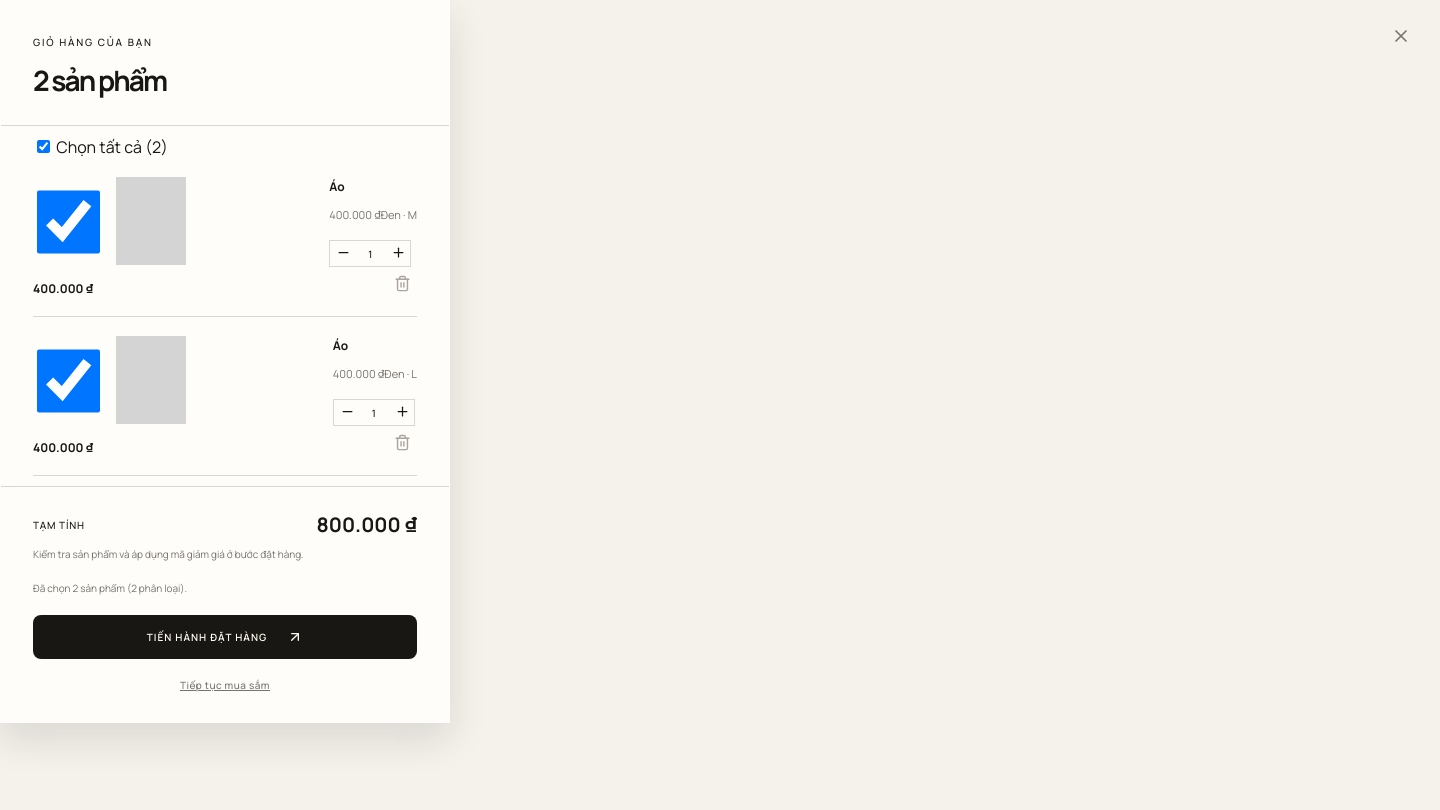
keeps checkout based on selected products, without shipping threshold side effects
The width and height of the screenshot is (1440, 810).
Click the checkbox named "Chọn Áo Đen M".
click(68, 222)  # box [37, 180, 100, 264]
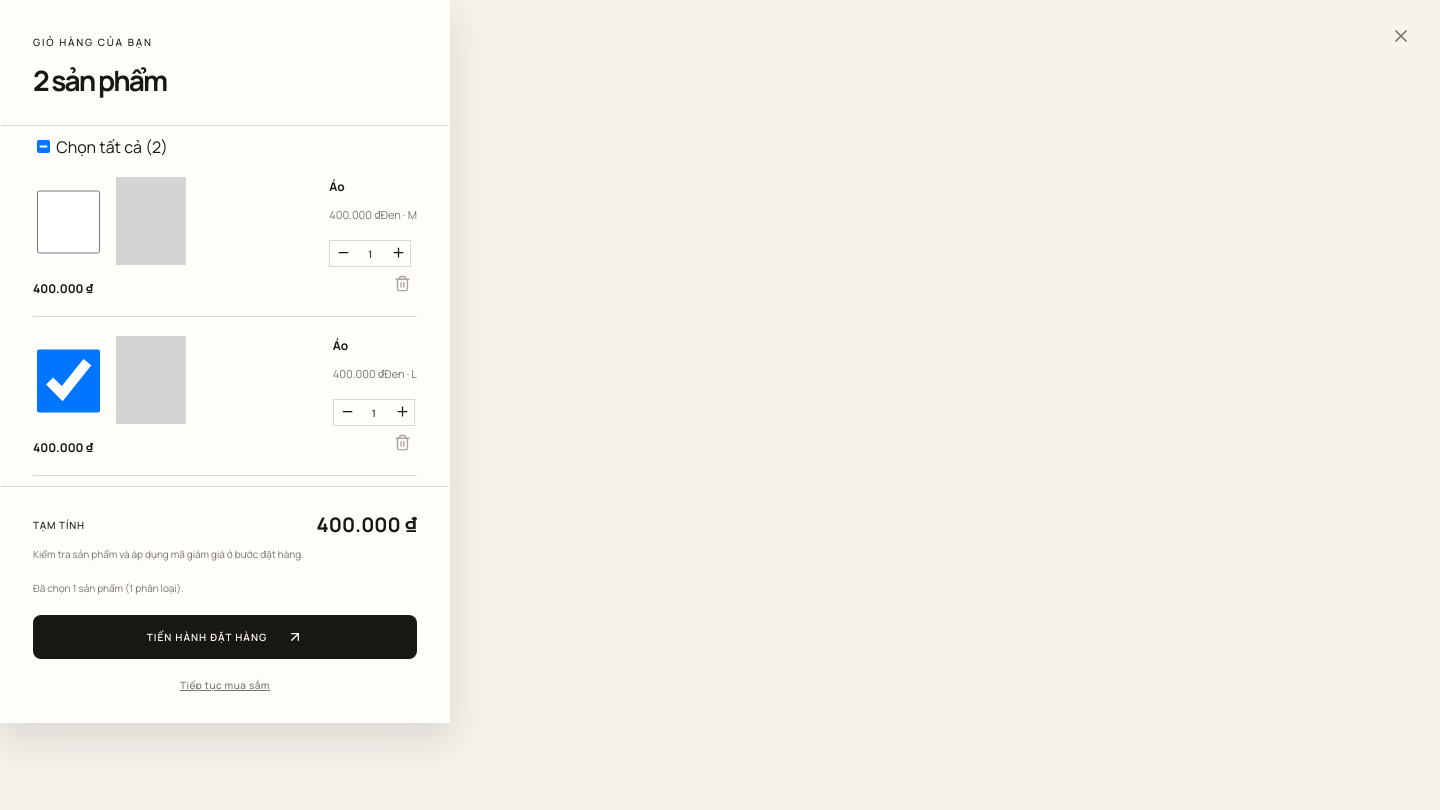
Click the checkbox named "Chọn Áo Đen L".
click(68, 381)  # box [37, 339, 100, 423]
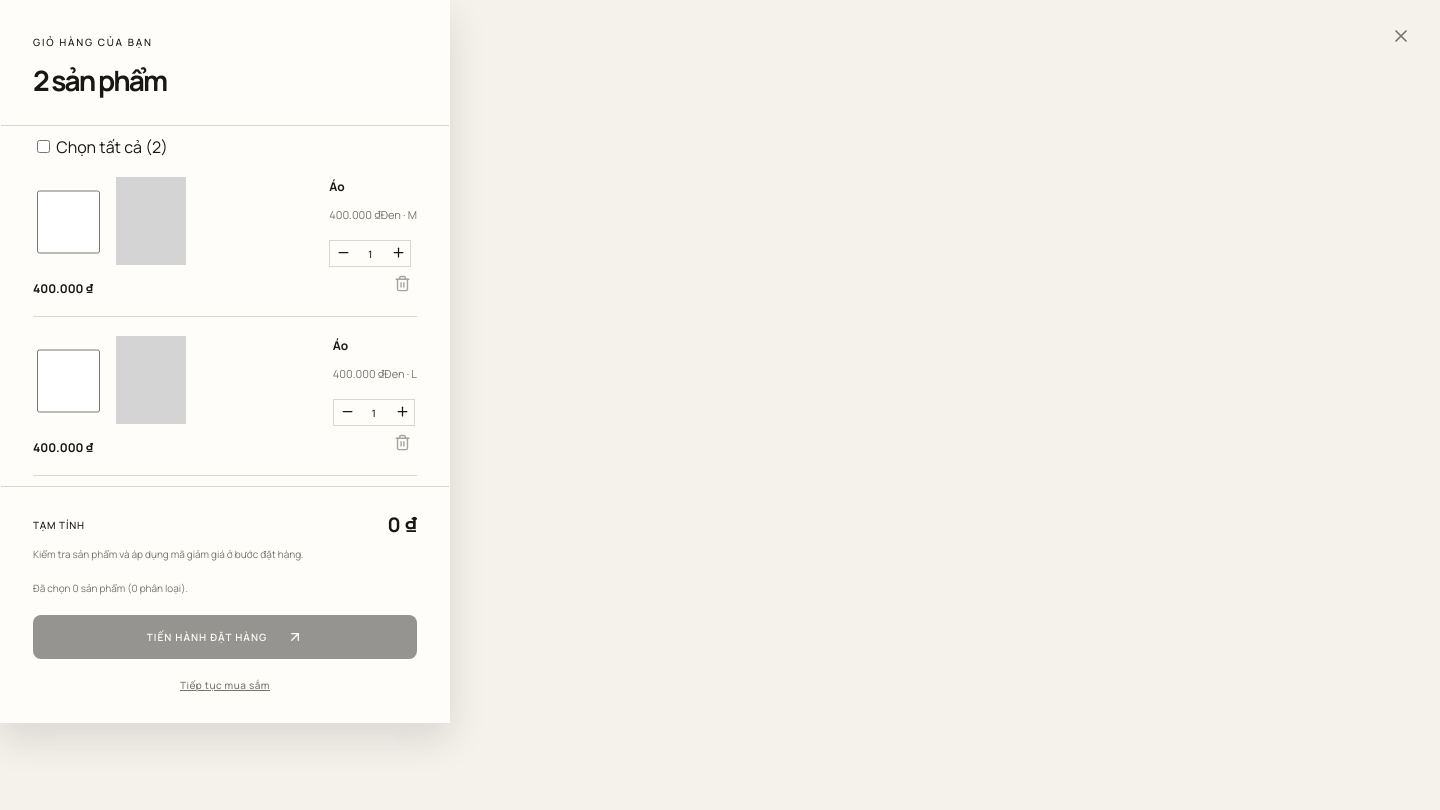
Expected: the button "TIẾN HÀNH ĐẶT HÀNG" is disabled, [33, 615, 417, 659]
